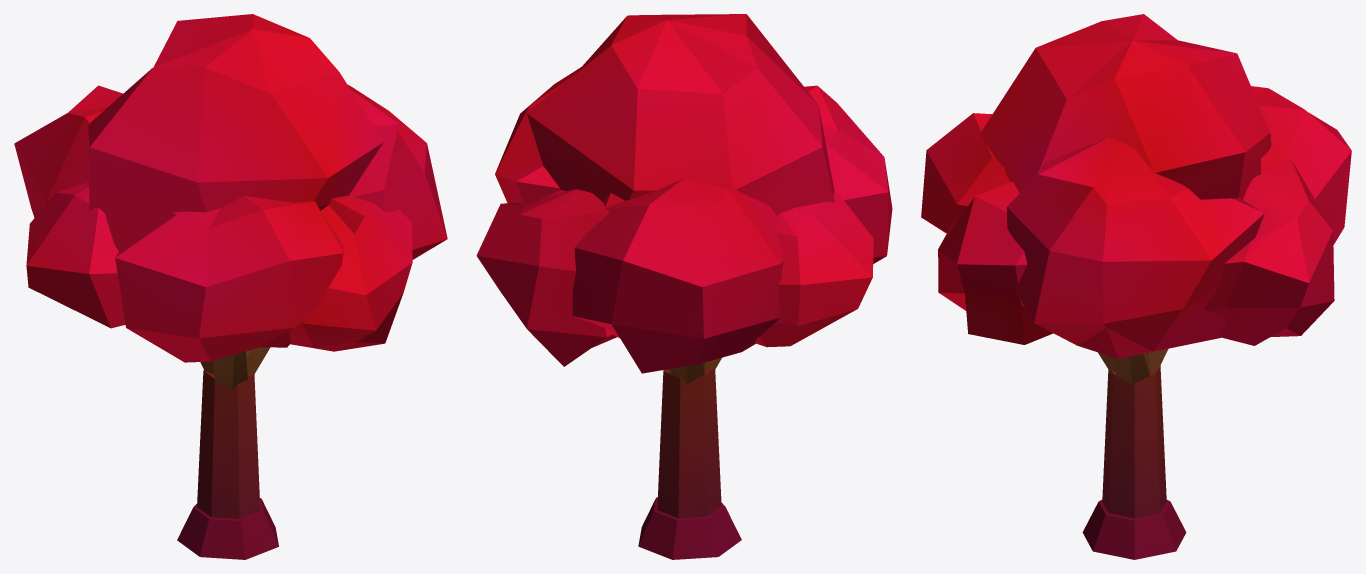
The model's file is Tree_Oak_Autumn_01.glb.
3 views of the same model, side by side, from view 1: azimuth 30°, elevation 25°; view 2: azimuth 150°, elevation 25°; view 3: azimuth 270°, elevation 25° (orthographic).
Visible parts, largest first — view 1: Tree_Oak_Autumn_01; view 2: Tree_Oak_Autumn_01; view 3: Tree_Oak_Autumn_01.
Part boxes in pixels (box(x1,y1,x2,y2)): Tree_Oak_Autumn_01: box(14, 14, 447, 559); Tree_Oak_Autumn_01: box(476, 14, 892, 559); Tree_Oak_Autumn_01: box(921, 14, 1351, 559).
Bounding box in the file's own units: 4.29 × 5.52 × 4.2.
